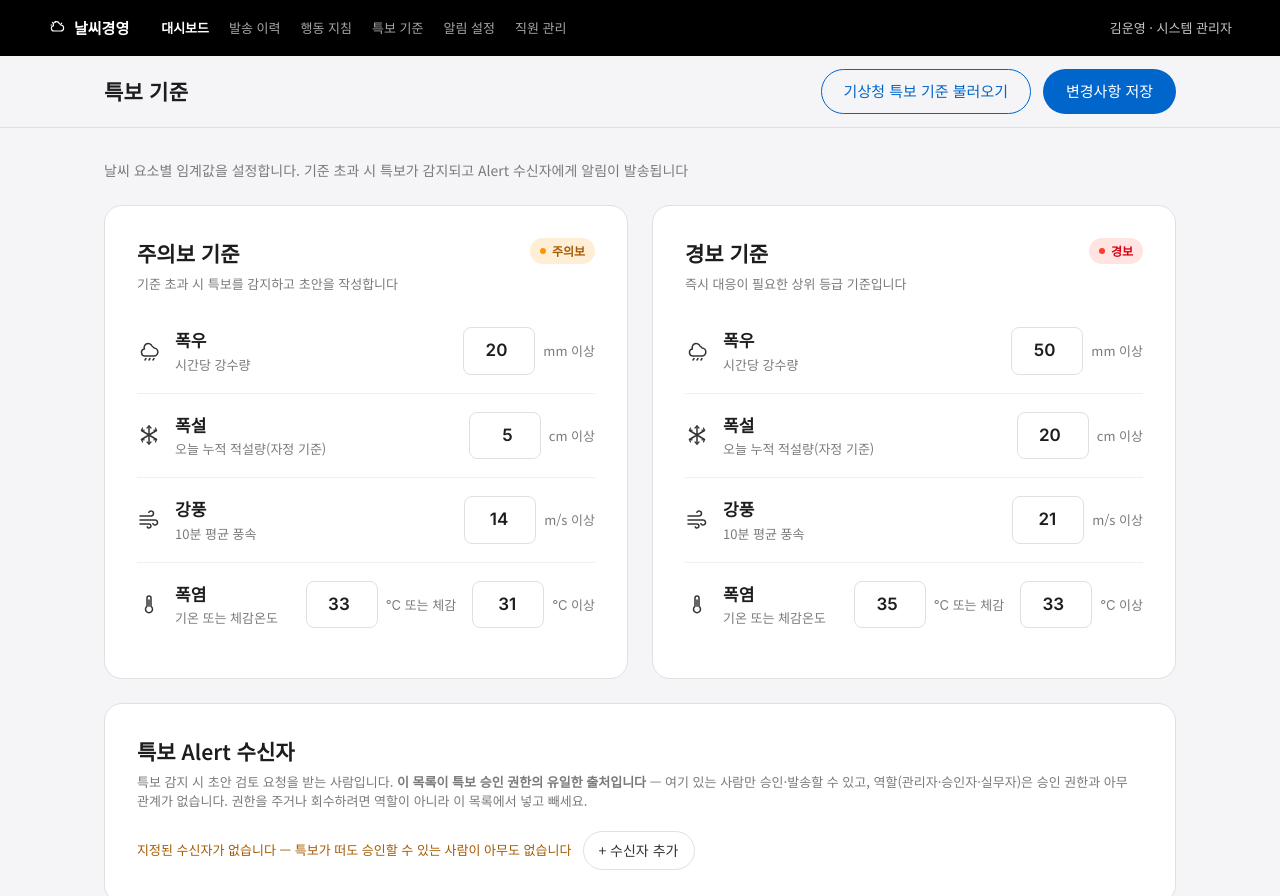
Criteria 기준 값 검증 (W-10) › 경보가 주의보보다 낮으면 저장하지 않고 이유를 말한다
Replace the text in the number field named "경보 폭우 기준 · 시간당 강수량 (mm 이상)" with "10" at {"x": 1047, "y": 351}, box [1011, 327, 1083, 374]
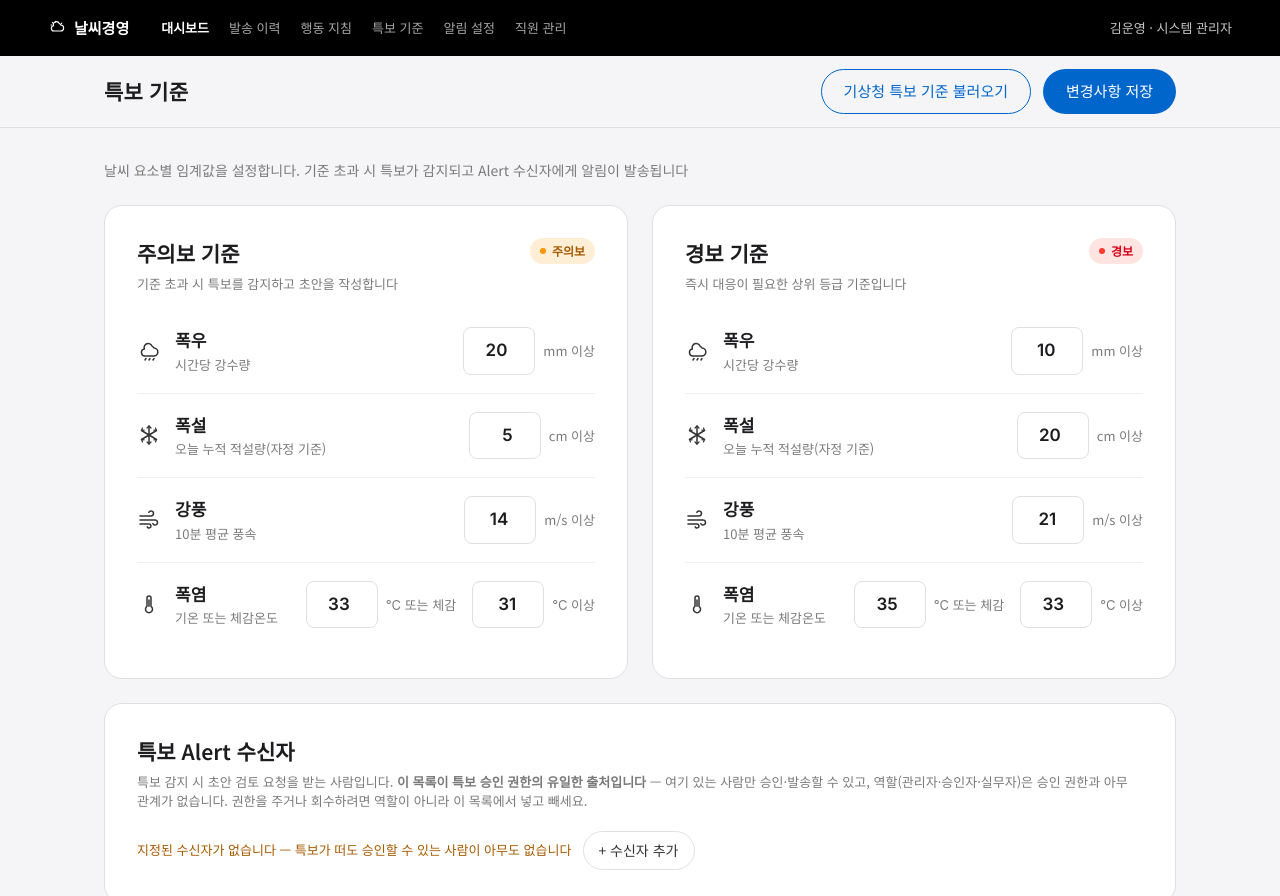
Click the button "변경사항 저장" at {"x": 1110, "y": 92}, box [1043, 69, 1176, 114]
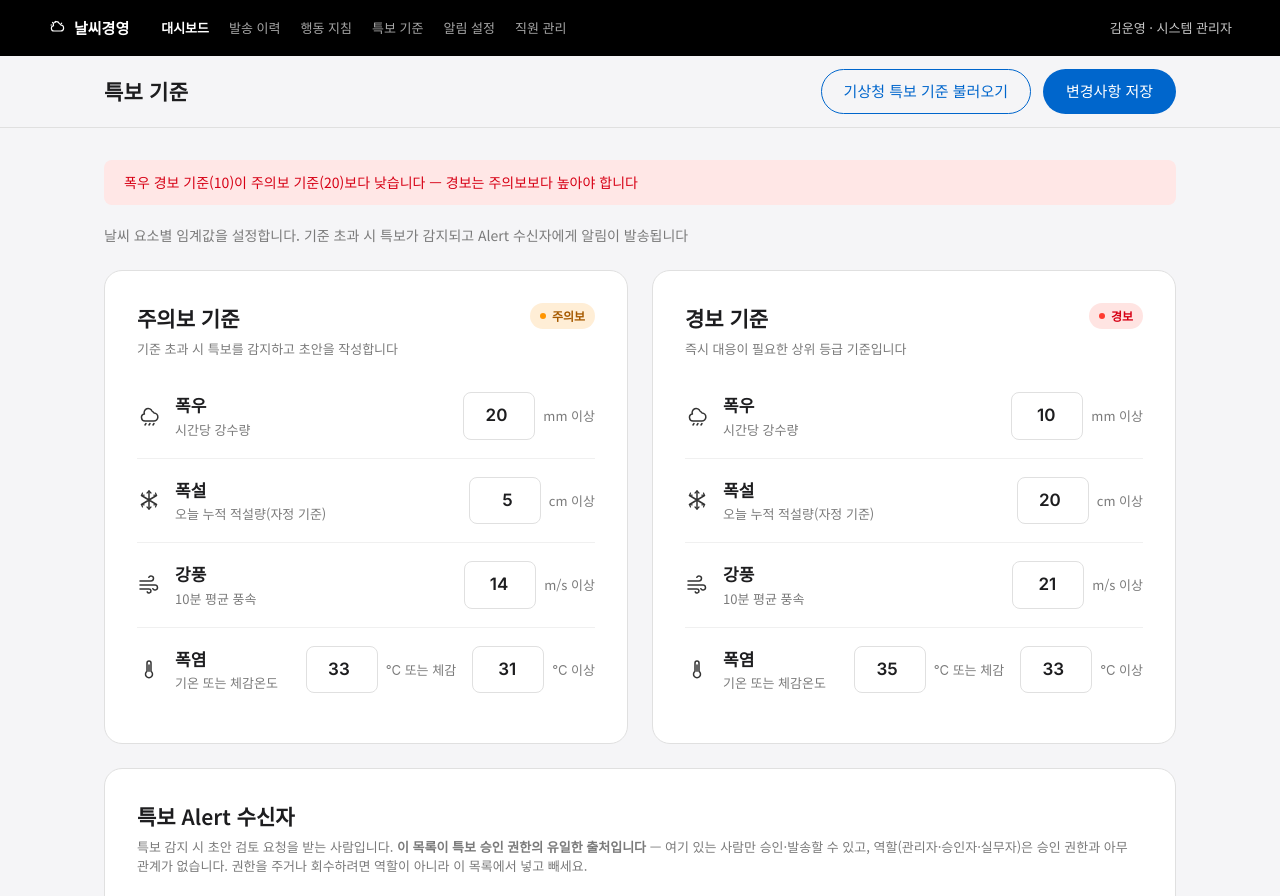
Result: the text "폭우 경보 기준(10)이 주의보 기준(20)보다 낮습니다 — 경보는 주의보보다 높아야 합니다" is shown at [104, 160, 1176, 205]
